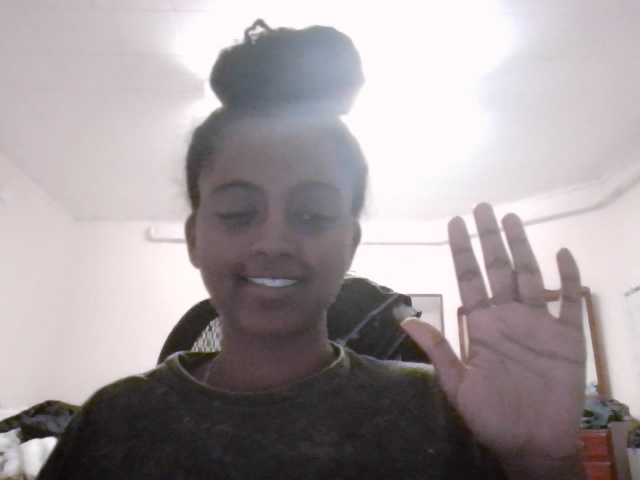hello: (396, 203, 614, 470)
